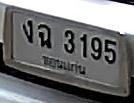number: (20, 14, 118, 65)
province: (40, 53, 87, 78)
